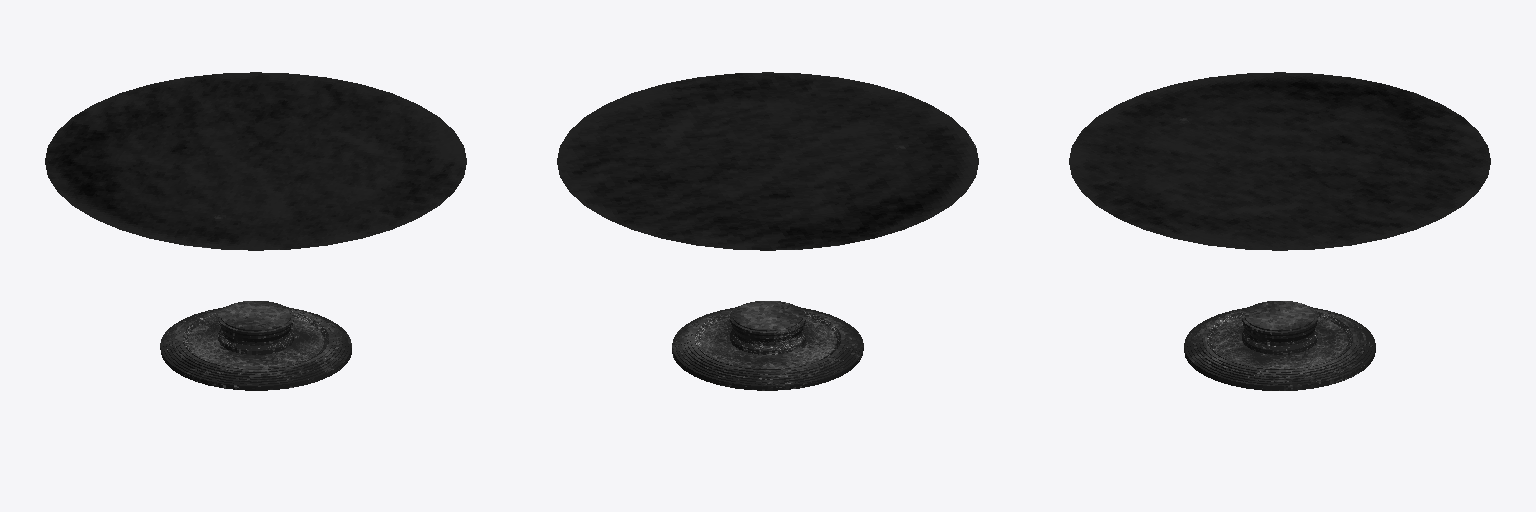
3 views of the same model, side by side, from view 1: azimuth 30°, elevation 25°; view 2: azimuth 150°, elevation 25°; view 3: azimuth 270°, elevation 25° (orthographic).
Visible parts, largest first — view 1: Generator_Cylinder.003; view 2: Generator_Cylinder.003; view 3: Generator_Cylinder.003.
Part boxes in pixels (left/top/right/bottom): Generator_Cylinder.003: left=45, top=72, right=466, bottom=390; Generator_Cylinder.003: left=557, top=72, right=978, bottom=390; Generator_Cylinder.003: left=1069, top=72, right=1490, bottom=390.
Size of the model in its own units: 25.85 by 12.76 by 25.85.
1 materials, 1 textured.